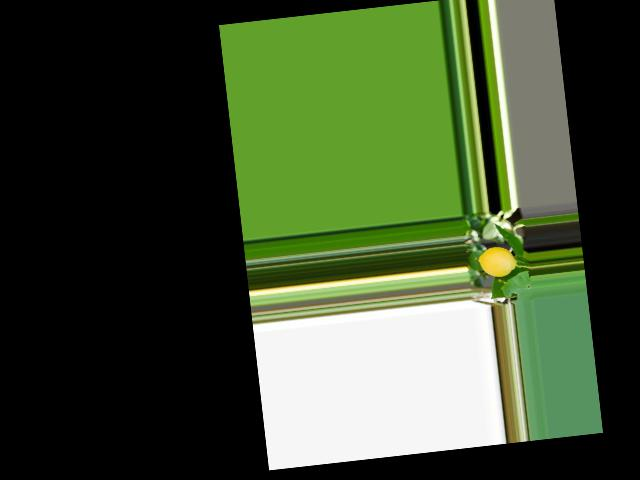lemon: (472, 241, 518, 279)
